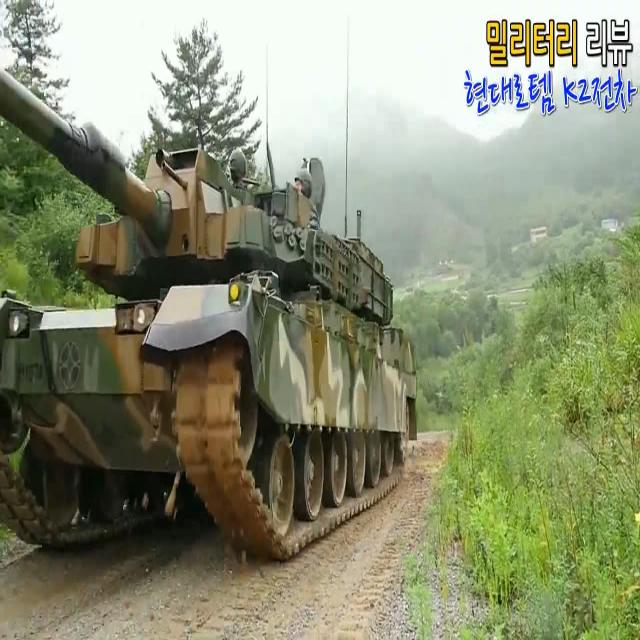korea tank: (1, 64, 419, 565)
